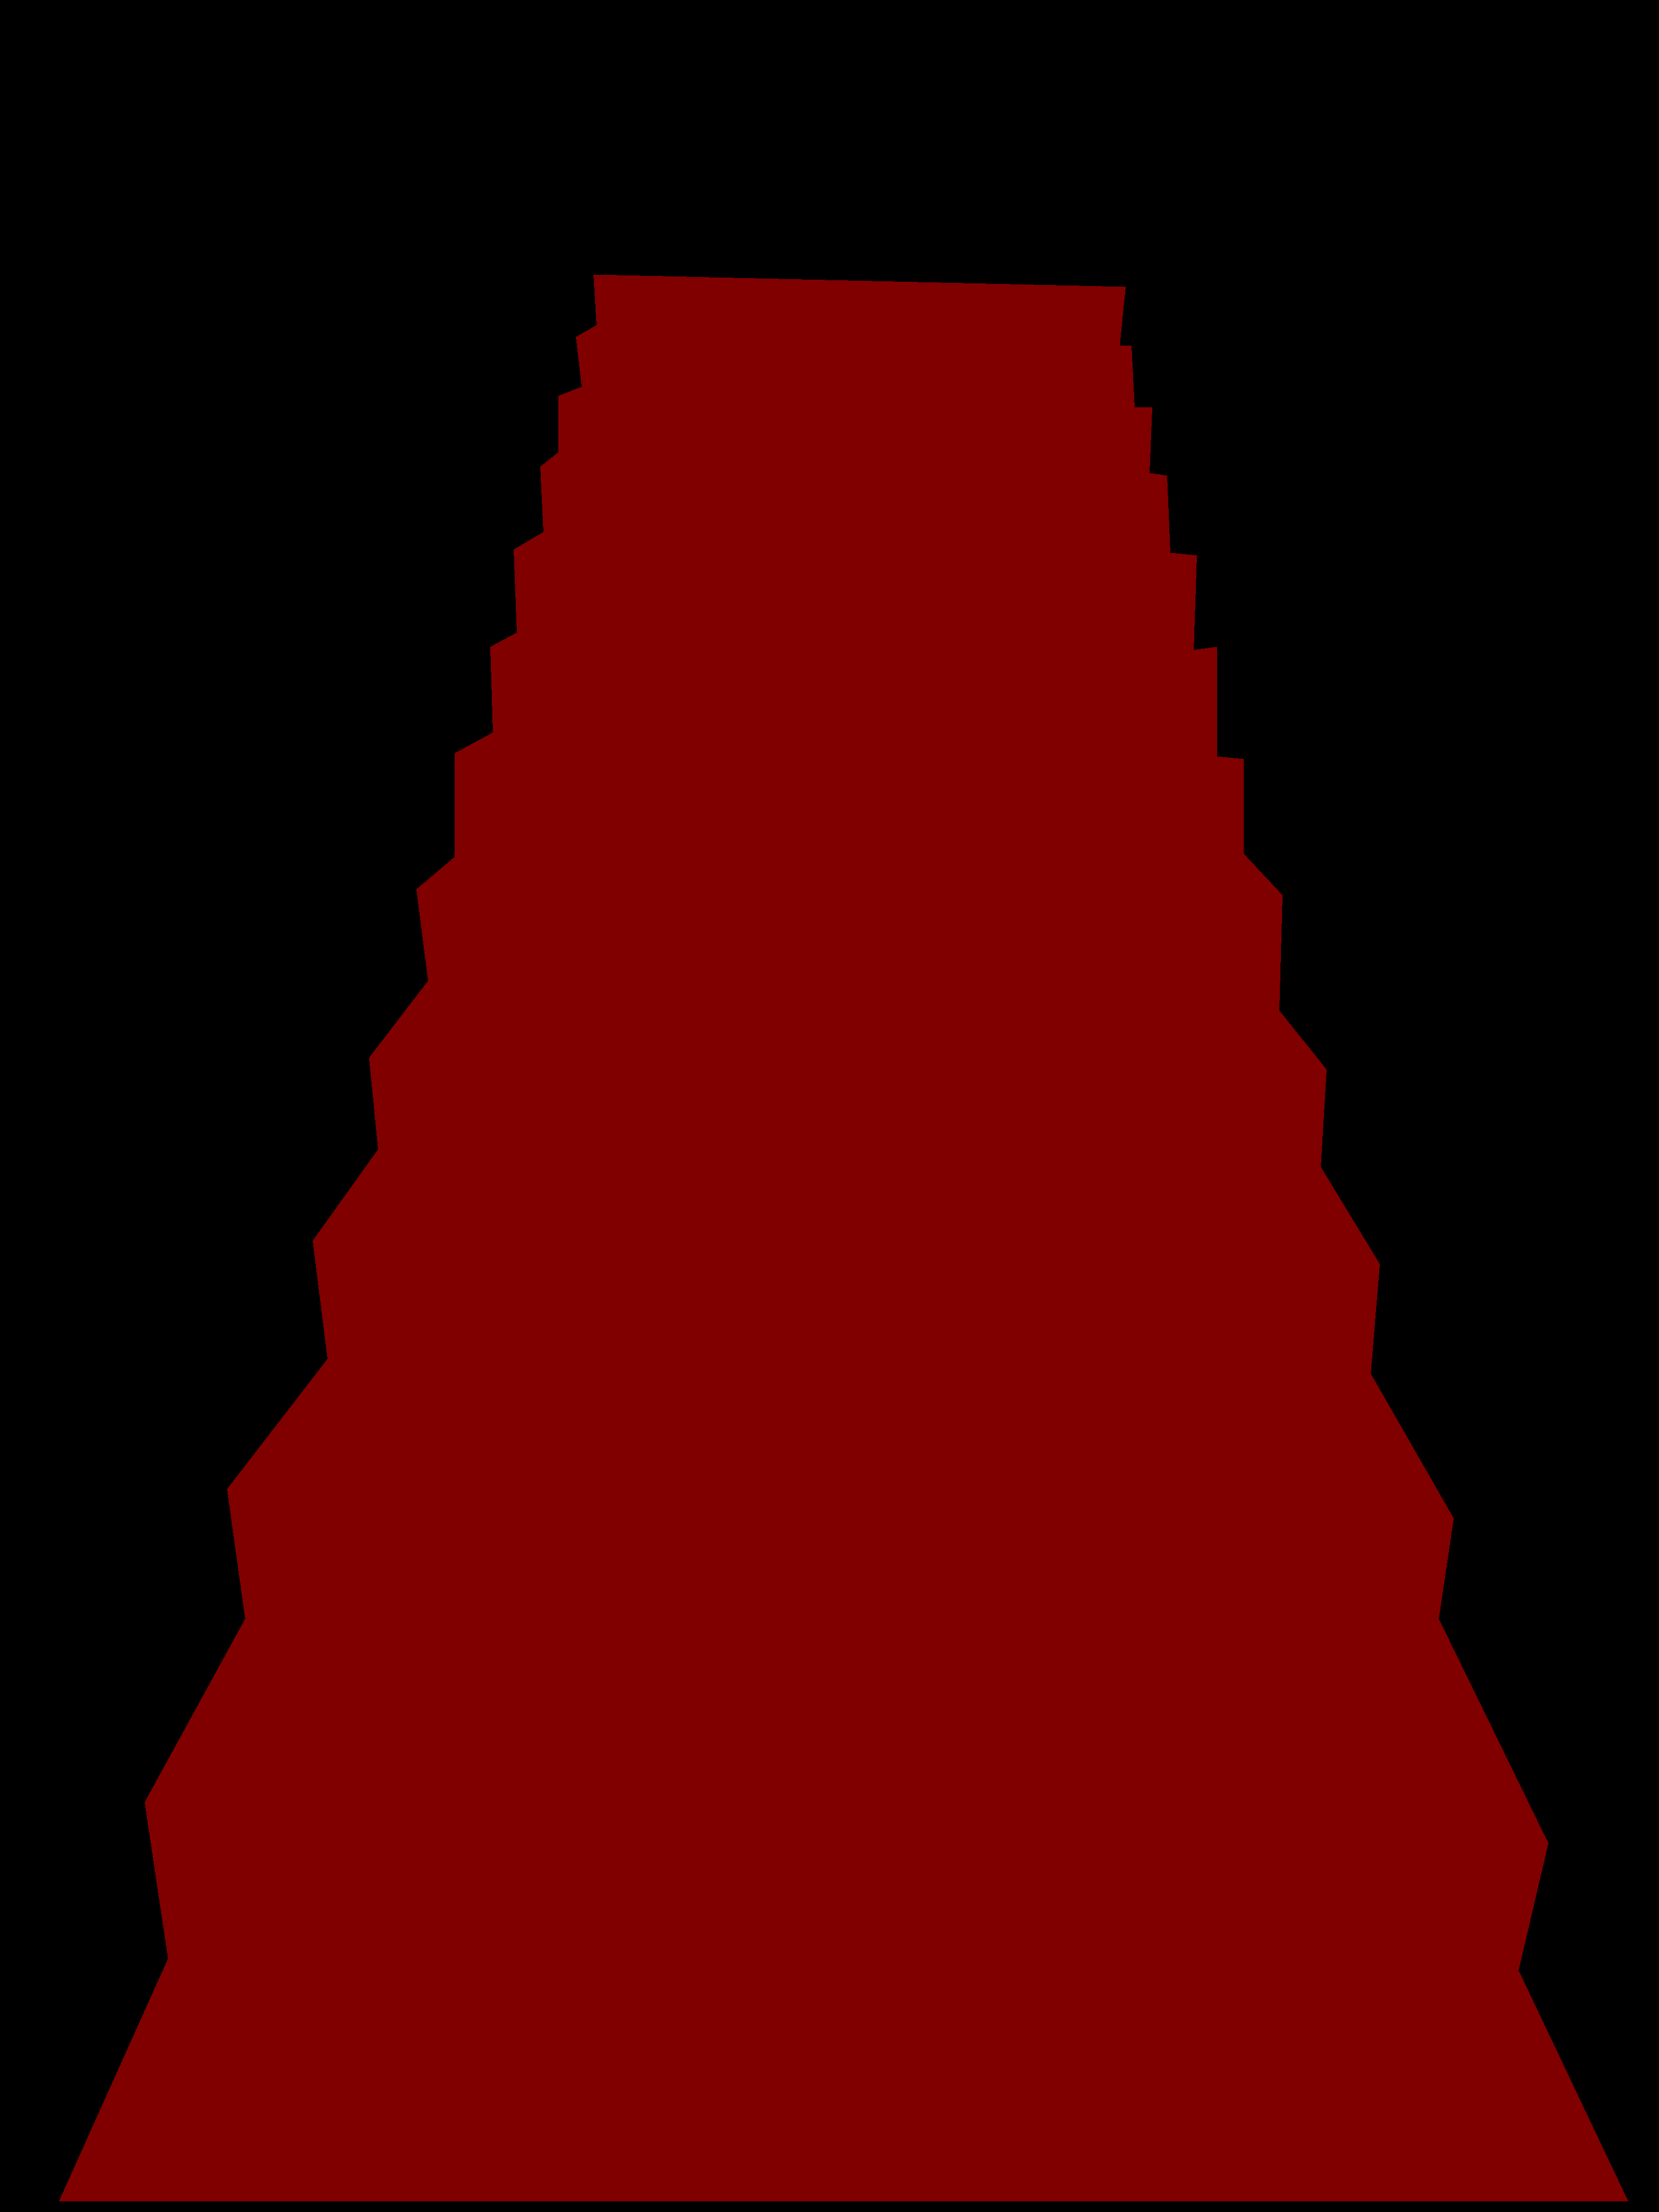stair: (59, 275, 1628, 2202)
